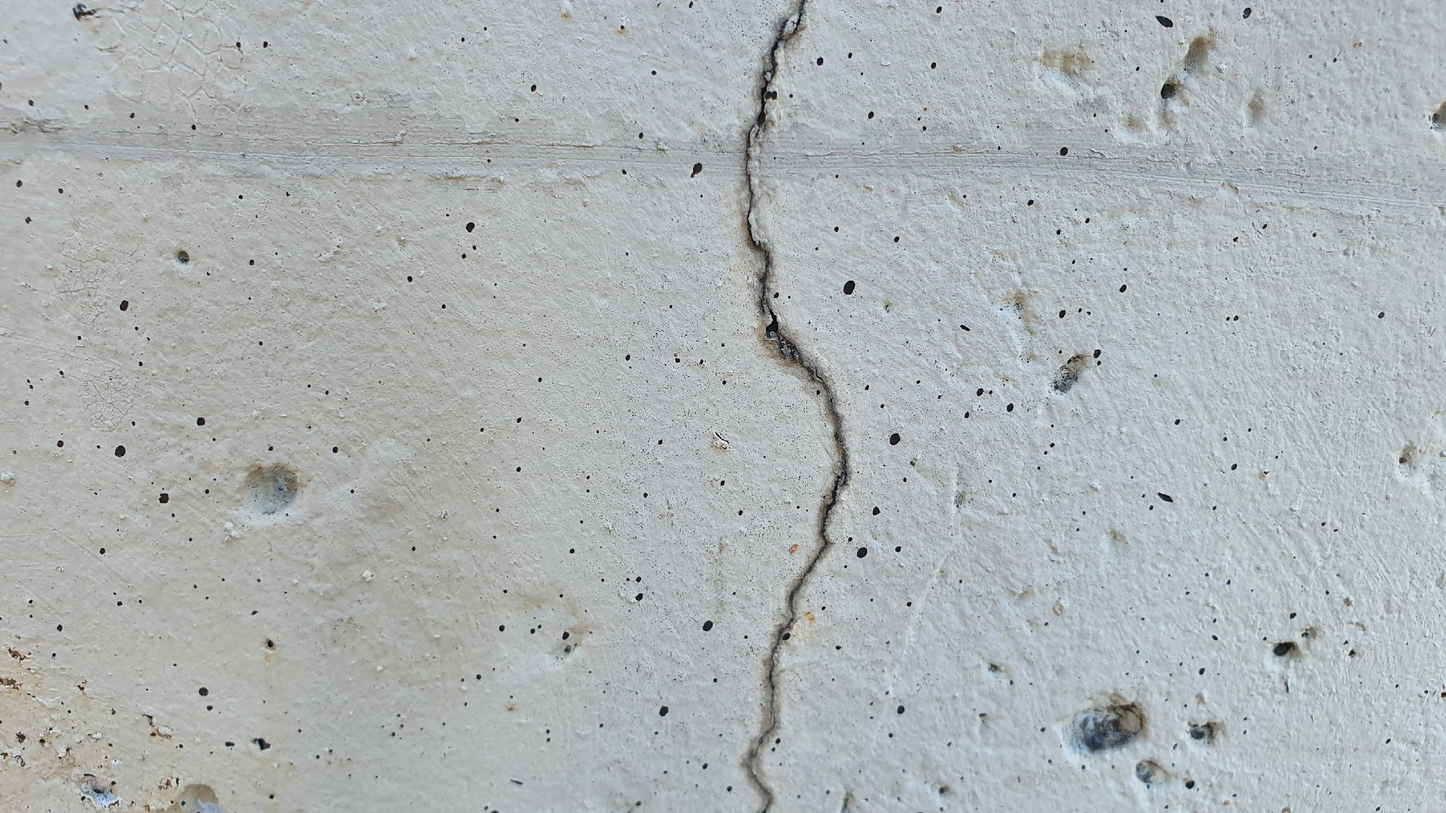crack: (745, 1, 848, 809)
